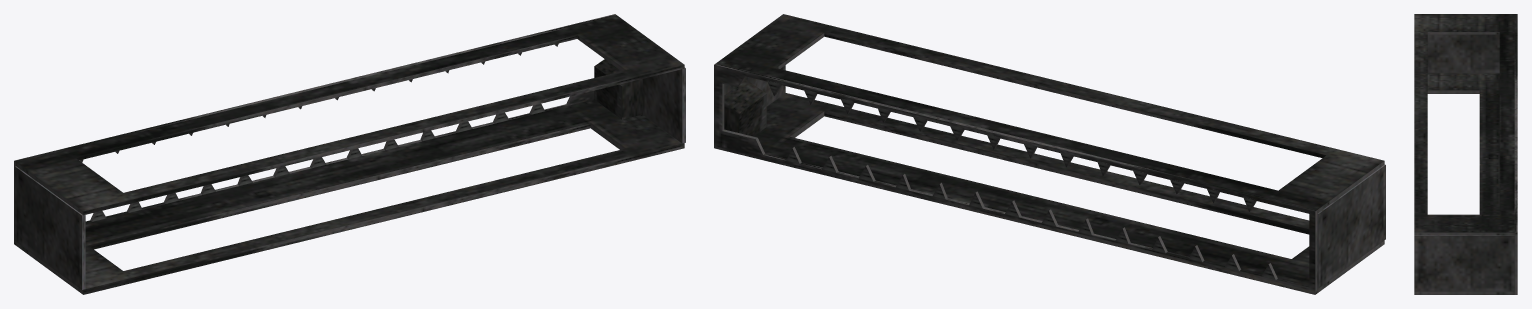
File: Mag.obj
The picture shows the model from 3 angles, left to right: view 1: azimuth 30°, elevation 25°; view 2: azimuth 150°, elevation 25°; view 3: azimuth 270°, elevation 25°; orthographic projection. The views are drawn at different scales.
Visible parts, largest first — view 1: wpn_ubludok; view 2: wpn_ubludok; view 3: wpn_ubludok.
Part boxes in pixels (x1=…): wpn_ubludok: x1=14, y1=14, x2=685, y2=294; wpn_ubludok: x1=714, y1=14, x2=1385, y2=294; wpn_ubludok: x1=1414, y1=14, x2=1517, y2=294.
Size of the model in its own units: 0.1809 by 0.0239 by 0.036.
